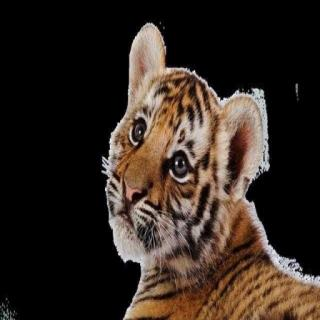Tiger: (75, 22, 320, 320)
